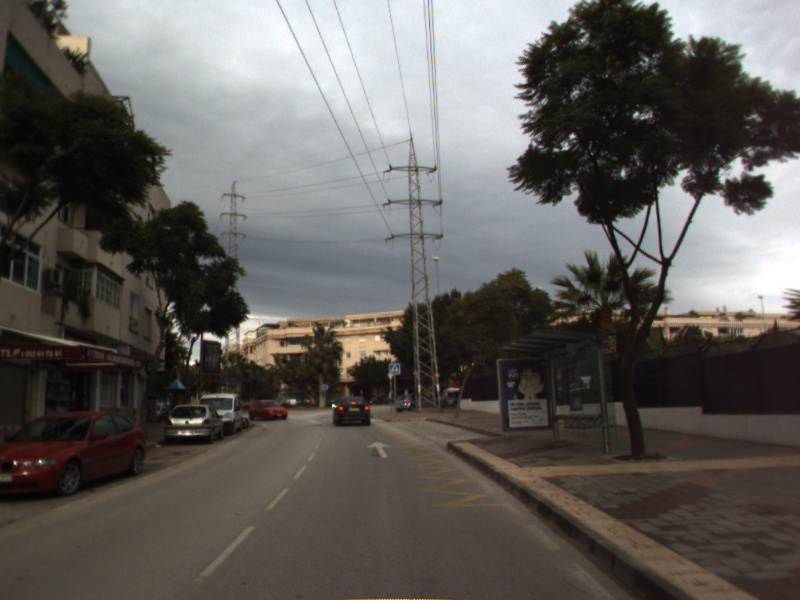STRAIGHT: (364, 439, 394, 459)
